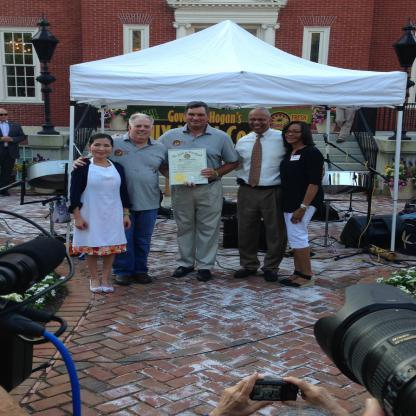Camera: (314, 282, 416, 416), (251, 377, 299, 403)
